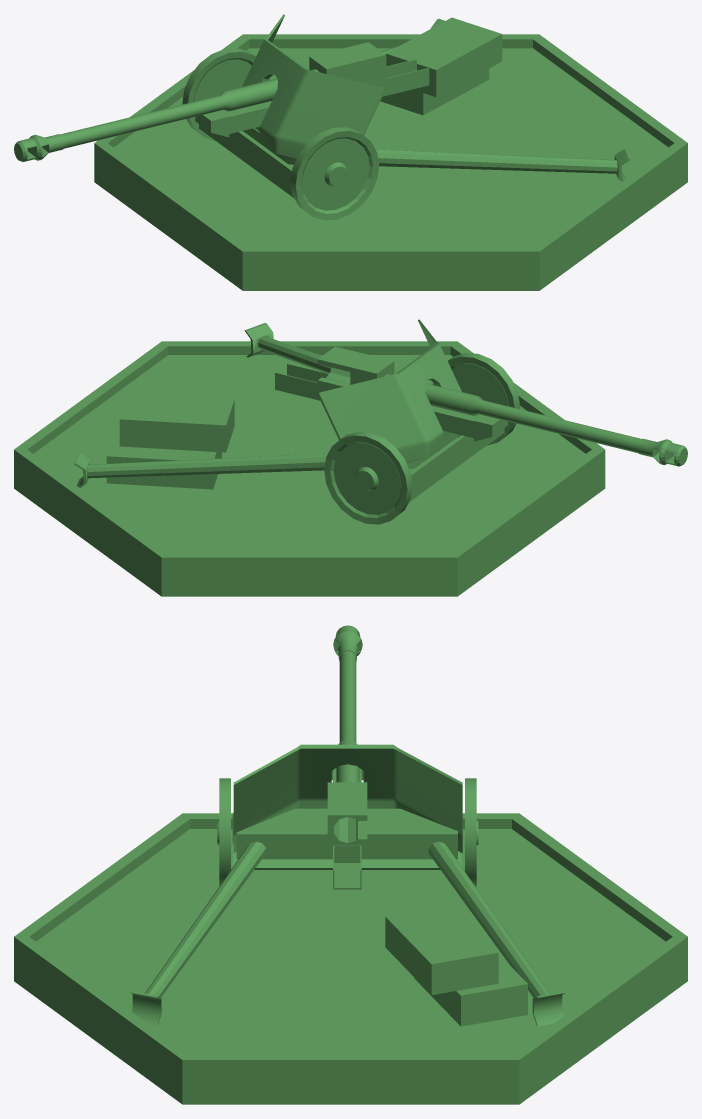
Rendered from pak40.fbx.
The picture shows the model from 3 angles, top to bottom: view 1: azimuth 30°, elevation 25°; view 2: azimuth 150°, elevation 25°; view 3: azimuth 270°, elevation 25°; orthographic projection. The views are drawn at different scales.
Visible parts, largest first — view 1: polySurface18; view 2: polySurface18; view 3: polySurface18.
Part boxes in pixels (box(x1,y1,x2,y2)): polySurface18: box(14, 14, 687, 290); polySurface18: box(14, 319, 687, 596); polySurface18: box(14, 625, 687, 1104).
Bounding box in the file's own units: 27.29 × 6.79 × 23.51.
